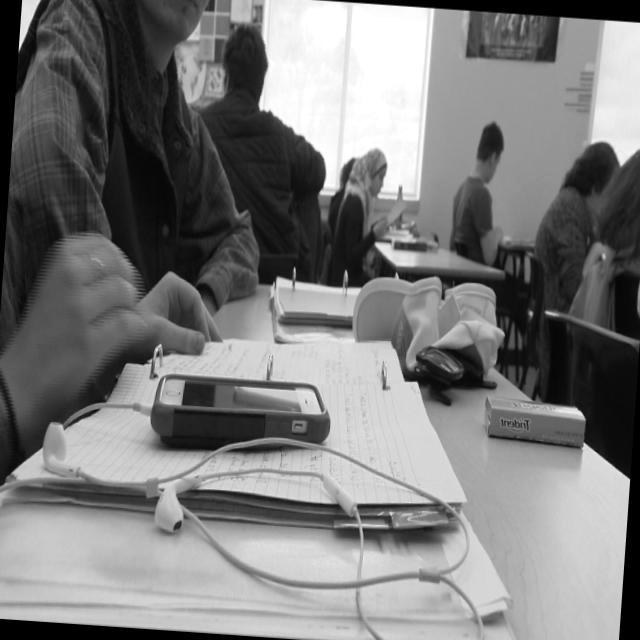phone: (148, 368, 334, 458)
